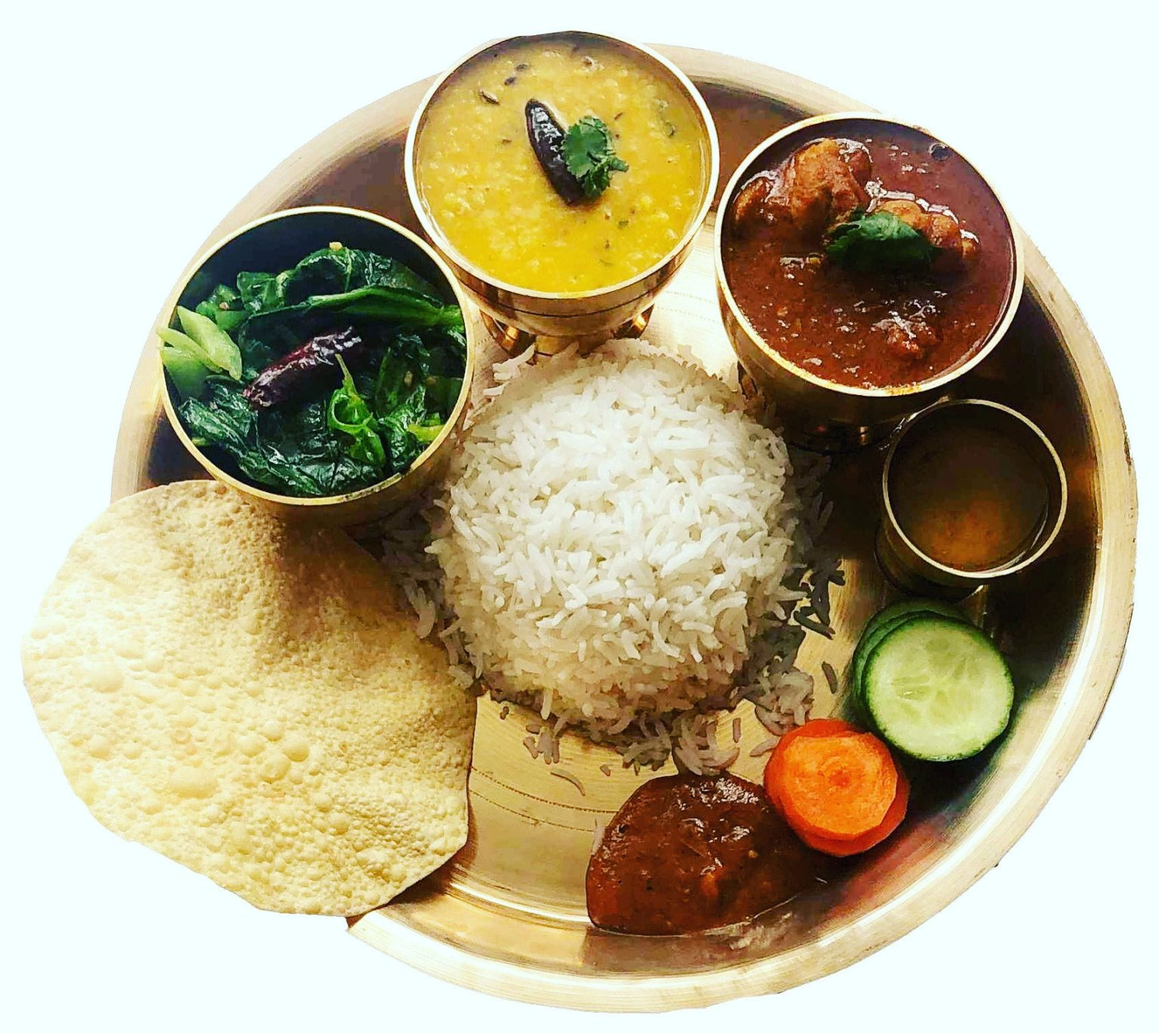bhat: (434, 347, 808, 727)
dal: (422, 60, 708, 287)
sabji: (172, 251, 446, 474)
